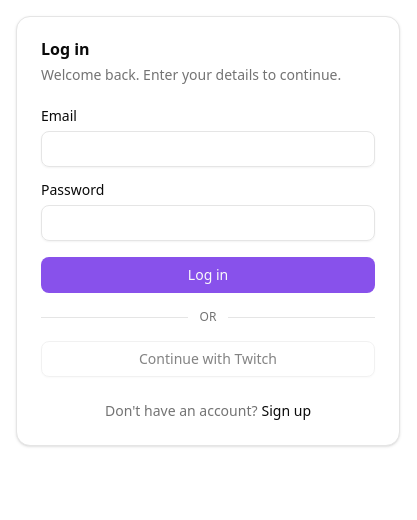
Test: LoginPage › valida el formulario del lado cliente antes de pegarle a la API
Click the button "Log in". click: (208, 275)
box: [41, 257, 375, 293]
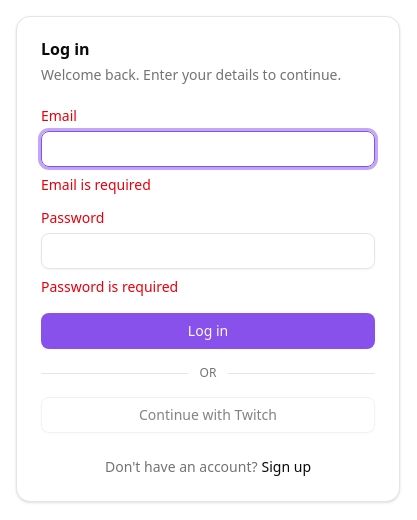
Now the text "Email is required" is shown, box [41, 175, 151, 194]
Now the text "Password is required" is shown, box [41, 277, 178, 296]
